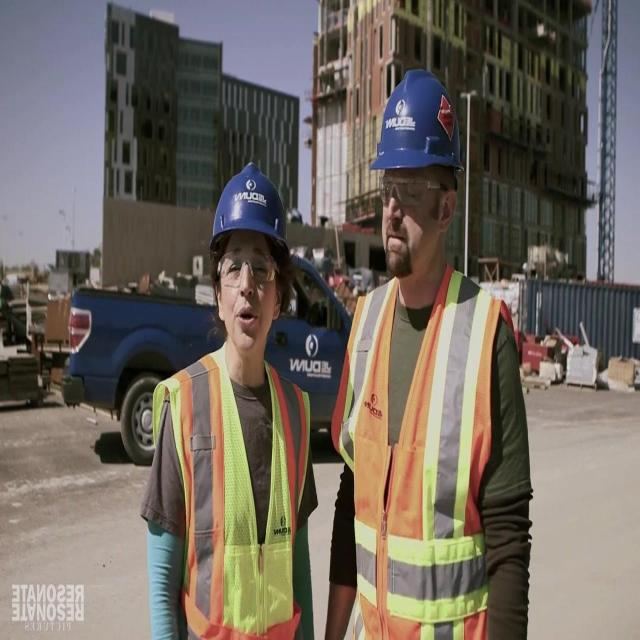Reflective-Jacket: (325, 261, 519, 640), (138, 342, 321, 636)
Safety-Helmet: (362, 56, 472, 196), (198, 150, 298, 267)
